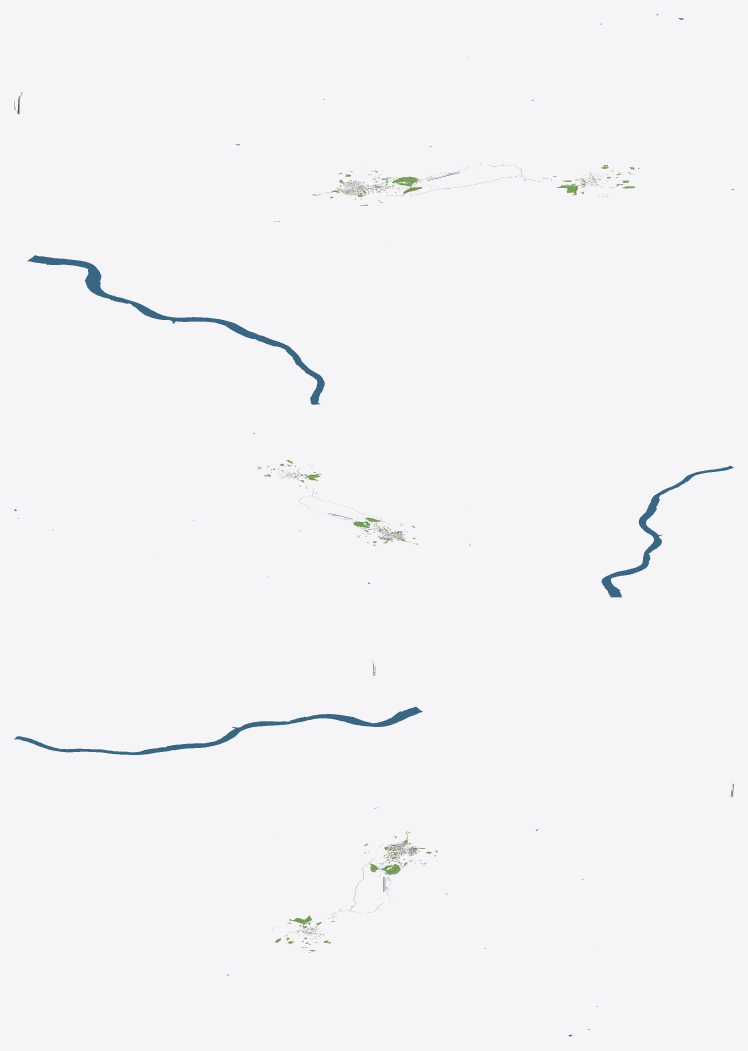
The model's file is land.glb.
3 views of the same model, one above another, from view 1: azimuth 30°, elevation 25°; view 2: azimuth 150°, elevation 25°; view 3: azimuth 270°, elevation 25° (orthographic). The views are drawn at different scales.
Visible parts, largest first — view 1: decal-ponds, decal-area-green, buildings; view 2: decal-ponds, decal-area-green; view 3: decal-ponds, decal-area-green.
Boxes of the visible parts, x1,y1,x2,y2 form: decal-ponds: (27, 14, 733, 404); decal-area-green: (312, 146, 638, 205); buildings: (336, 163, 609, 197); decal-ponds: (14, 433, 733, 597); decal-area-green: (257, 460, 418, 545); decal-ponds: (14, 706, 597, 1036); decal-area-green: (275, 831, 447, 952).
Size of the model in its own units: 159107 by 4810 by 146704.
